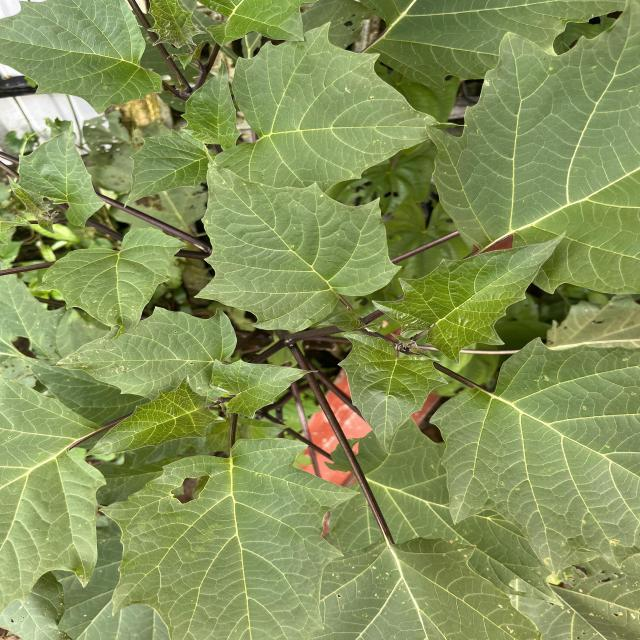Datura metal linn: (214, 20, 471, 194), (190, 142, 404, 335), (370, 227, 570, 367), (30, 225, 191, 343), (333, 331, 451, 458), (80, 373, 228, 460), (205, 354, 322, 420), (176, 55, 245, 152)
